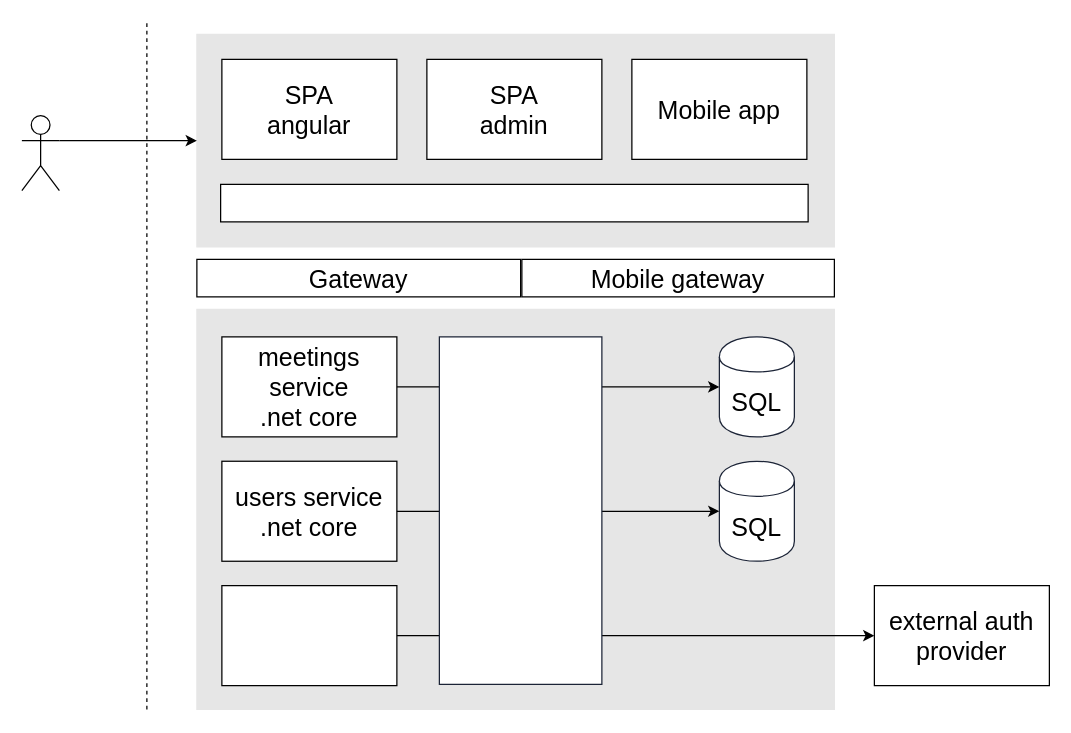
This 1071x733 diagram has some shape labels left out. The centre of each missing label's shape, as x and y in pixels:
"auth service .net core" belongs at (309,635).
"Redis cache" belongs at (520,510).
"shared js code base" belongs at (513,202).
